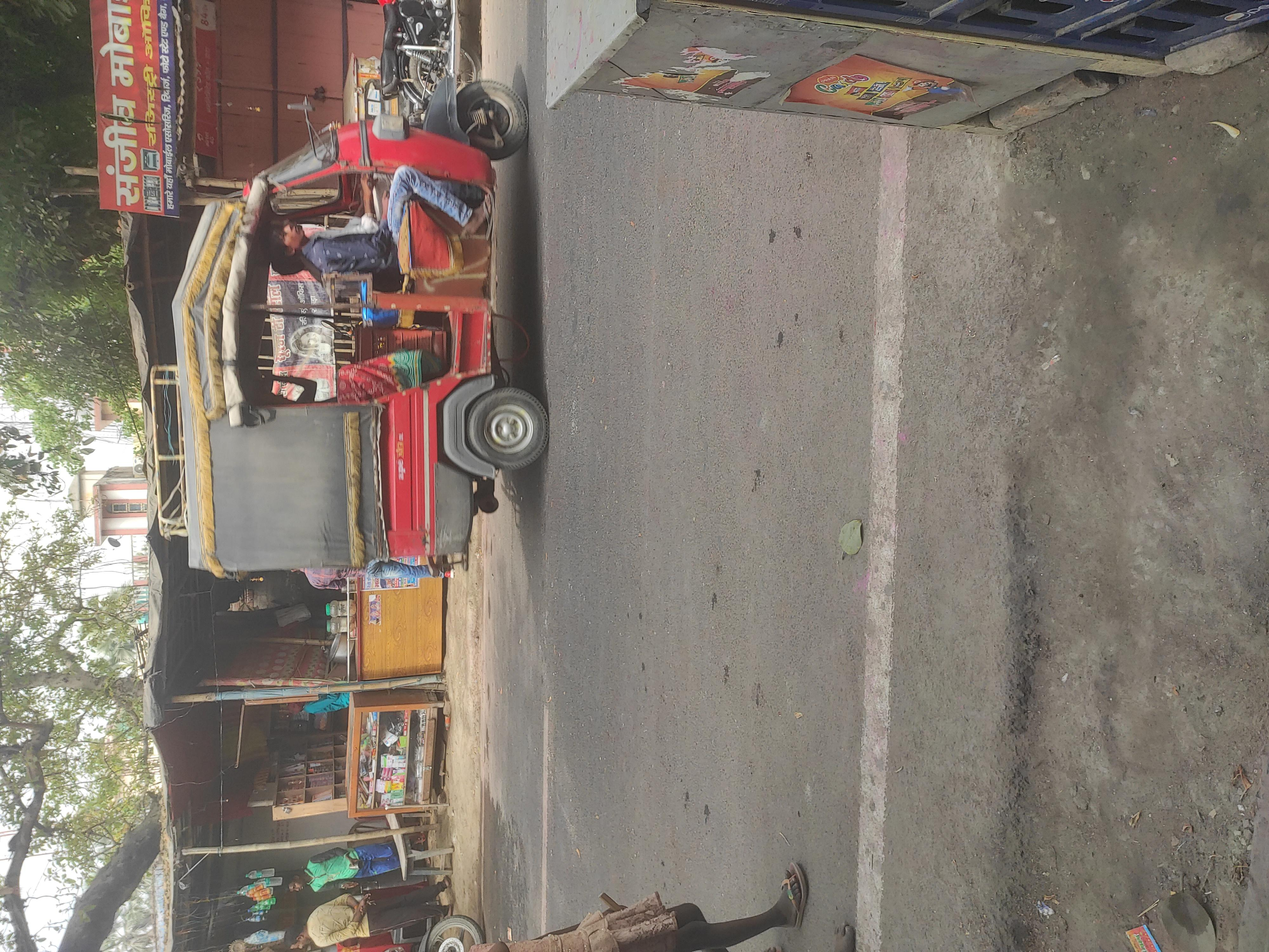Auto: (491, 125, 1195, 405)
